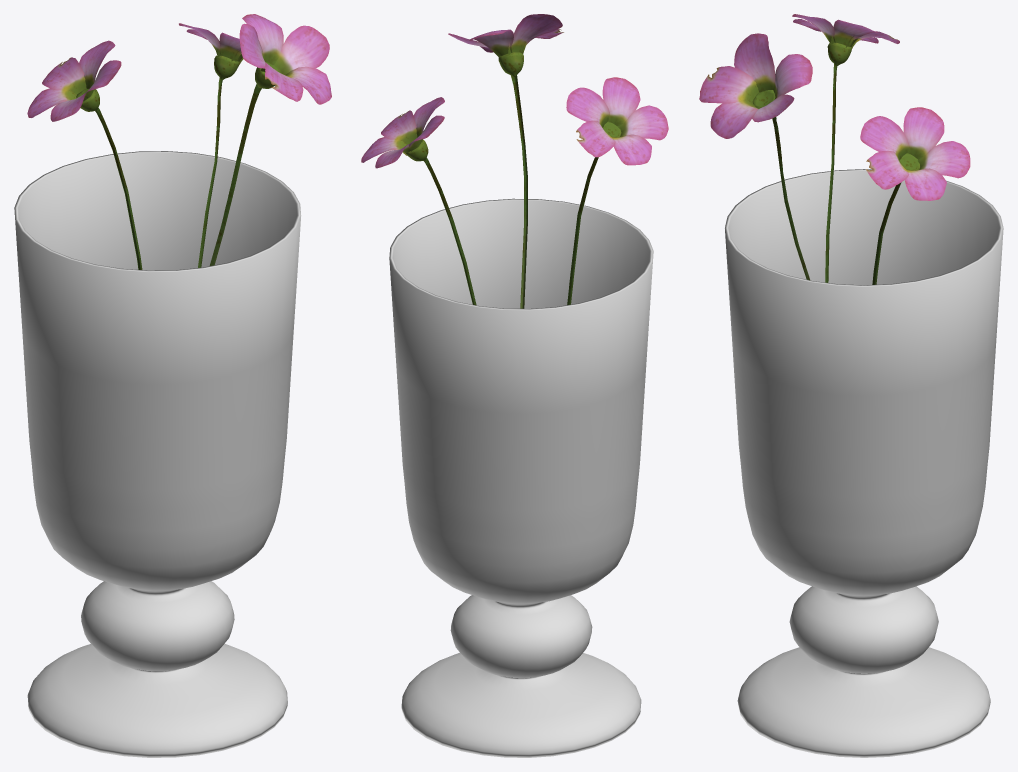
Rendered from still-life.glb.
3 views of the same model, side by side, from view 1: azimuth 30°, elevation 25°; view 2: azimuth 150°, elevation 25°; view 3: azimuth 270°, elevation 25° (orthographic). The views are drawn at different scales.
Parts seen in each view (by area): view 1: Vessel, SprigB, SprigC, SprigA; view 2: Vessel, SprigC, SprigB, SprigA; view 3: Vessel, SprigB, SprigA, SprigC.
Part boxes in pixels (<box>): Vessel: <box>14,151,301,757</box>; SprigB: <box>209,14,331,265</box>; SprigC: <box>27,40,142,269</box>; SprigA: <box>179,23,243,267</box>; Vessel: <box>389,198,653,757</box>; SprigC: <box>566,77,668,304</box>; SprigB: <box>448,14,563,308</box>; SprigA: <box>361,97,476,305</box>; Vessel: <box>725,169,1003,757</box>; SprigB: <box>699,33,812,280</box>; SprigA: <box>860,107,970,284</box>; SprigC: <box>792,14,899,282</box>.
Size of the model in its own units: 0.9706 by 2.38 by 0.9603.
Materials: 2 (1 with a texture image).
